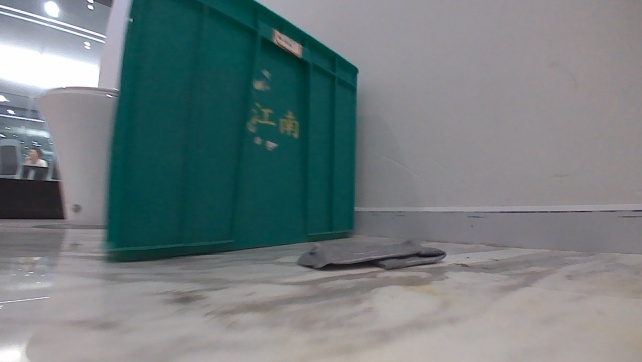socks: (292, 240, 450, 271)
toilet: (33, 83, 120, 228)
